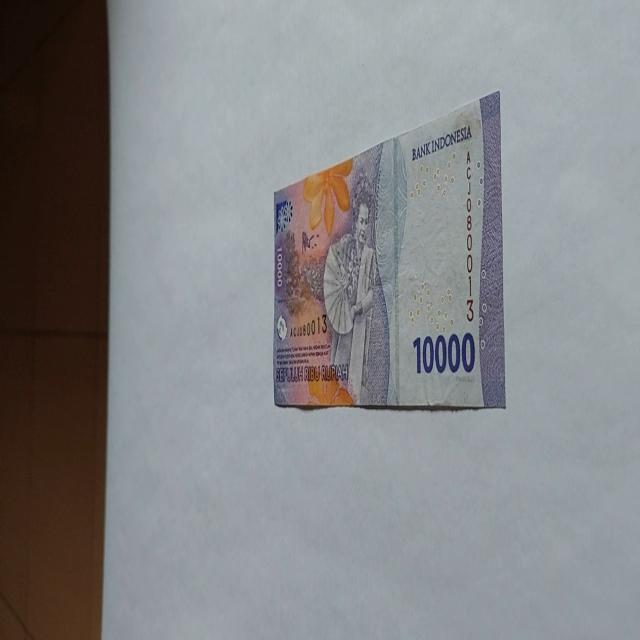sepuluh ribu rupiah: (272, 89, 506, 412)
